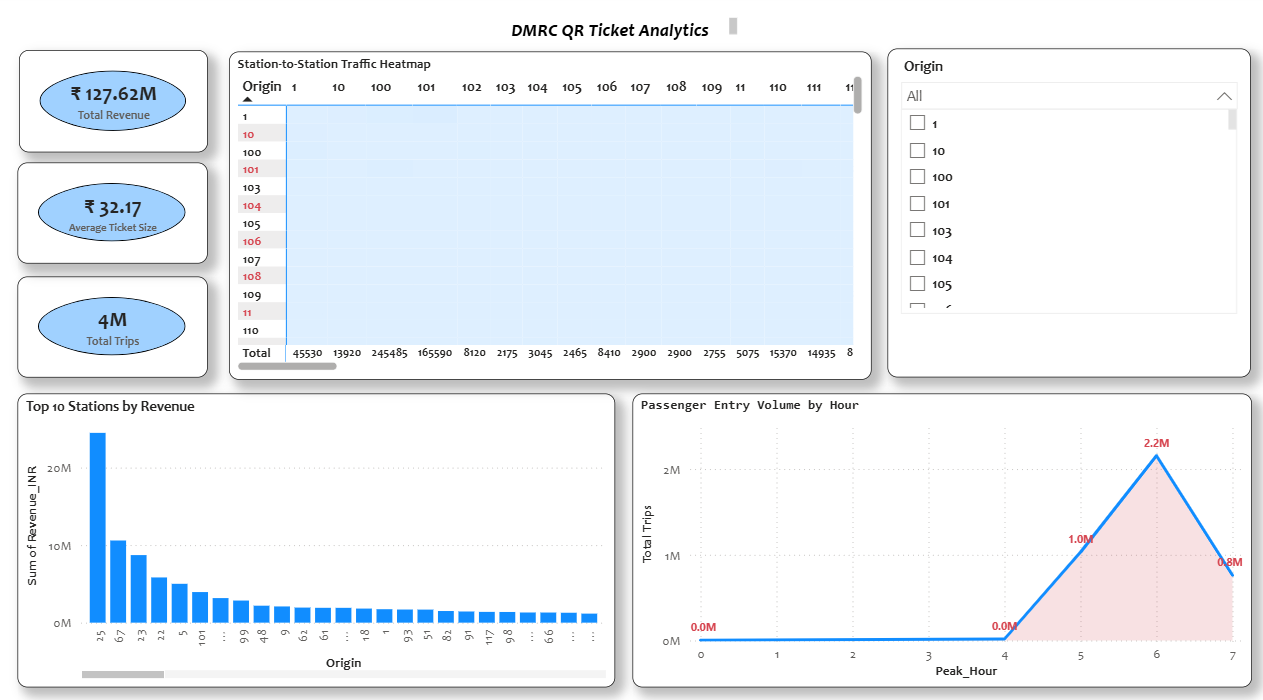

What the dashboard file says about the page in this screenshot:
{"tool":"powerbi","page":{"name":"Page 1","canvas":[1280,720],"ordinal":0},"visuals":[{"type":"cardVisual","fields":{"Data":["dmrc_qr powerbi_qr_entry_data.Total Revenue"]},"box":[20.9,58.2,190.9,103.6],"z":0},{"type":"cardVisual","fields":{"Data":["dmrc_qr powerbi_qr_entry_data.Total Trips"]},"box":[20,286.7,191.7,101.7],"z":1000},{"type":"cardVisual","fields":{"Data":["dmrc_qr powerbi_qr_entry_data.Average Ticket Size"]},"box":[20,171.7,191.7,101.7],"z":2000},{"type":"clusteredColumnChart","title":"Top 10 Stations by Revenue","fields":{"Category":["dmrc_qr powerbi_qr_entry_data.Origin"],"Y":["Sum(dmrc_qr powerbi_qr_entry_data.Revenue_INR)"]},"box":[20,405,603.3,296.7],"z":3000},{"type":"pivotTable","title":"Station-to-Station Traffic Heatmap","fields":{"Rows":["dmrc_qr powerbi_qr_entry_data.Origin"],"Columns":["dmrc_qr powerbi_qr_entry_data.Destination"],"Values":["dmrc_qr powerbi_qr_entry_data.Total Trips"]},"box":[232.9,58.6,648.6,331.4],"z":4000},{"type":"lineChart","title":"Passenger Entry Volume by Hour ","fields":{"Category":["dmrc_qr powerbi_qr_entry_data.Peak_Hour"],"Y":["dmrc_qr powerbi_qr_entry_data.Total Trips"]},"box":[640,405,625,296.7],"z":5000},{"type":"textbox","box":[492.1,19.7,258.9,36.3],"z":6000},{"type":"slicer","fields":{"Values":["dmrc_qr powerbi_qr_entry_data.Origin"]},"box":[898.3,56.7,366.7,331.7],"z":7000}]}

Visuals, with their boxes in screenshot pixels (x1, y1, x2, y2), scaled from the page's 1280x720 canvas onto the 1263x700 screenshot:
cardVisual - dmrc_qr powerbi_qr_entry_data.Total Revenue: BBox(21, 57, 209, 157)
cardVisual - dmrc_qr powerbi_qr_entry_data.Total Trips: BBox(20, 279, 209, 378)
cardVisual - dmrc_qr powerbi_qr_entry_data.Average Ticket Size: BBox(20, 167, 209, 266)
"Top 10 Stations by Revenue" clusteredColumnChart: BBox(20, 394, 615, 682)
"Station-to-Station Traffic Heatmap" pivotTable: BBox(230, 57, 870, 379)
"Passenger Entry Volume by Hour " lineChart: BBox(632, 394, 1248, 682)
textbox: BBox(486, 19, 741, 54)
slicer - dmrc_qr powerbi_qr_entry_data.Origin: BBox(886, 55, 1248, 378)
